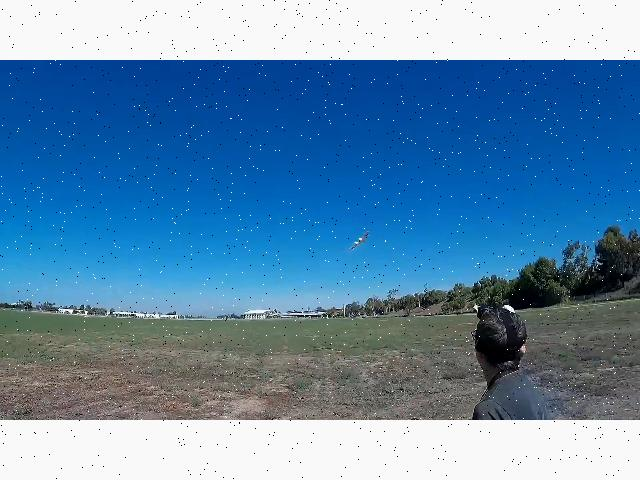Anti-Drone: (350, 232, 368, 248)
